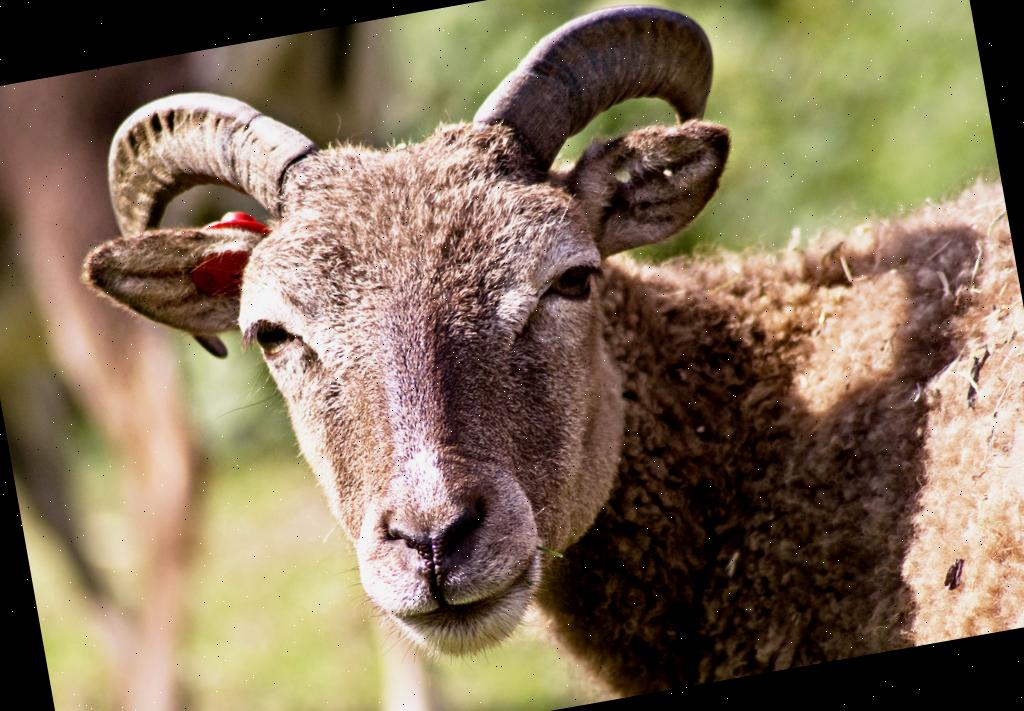Sheep: (50, 0, 1024, 711)
